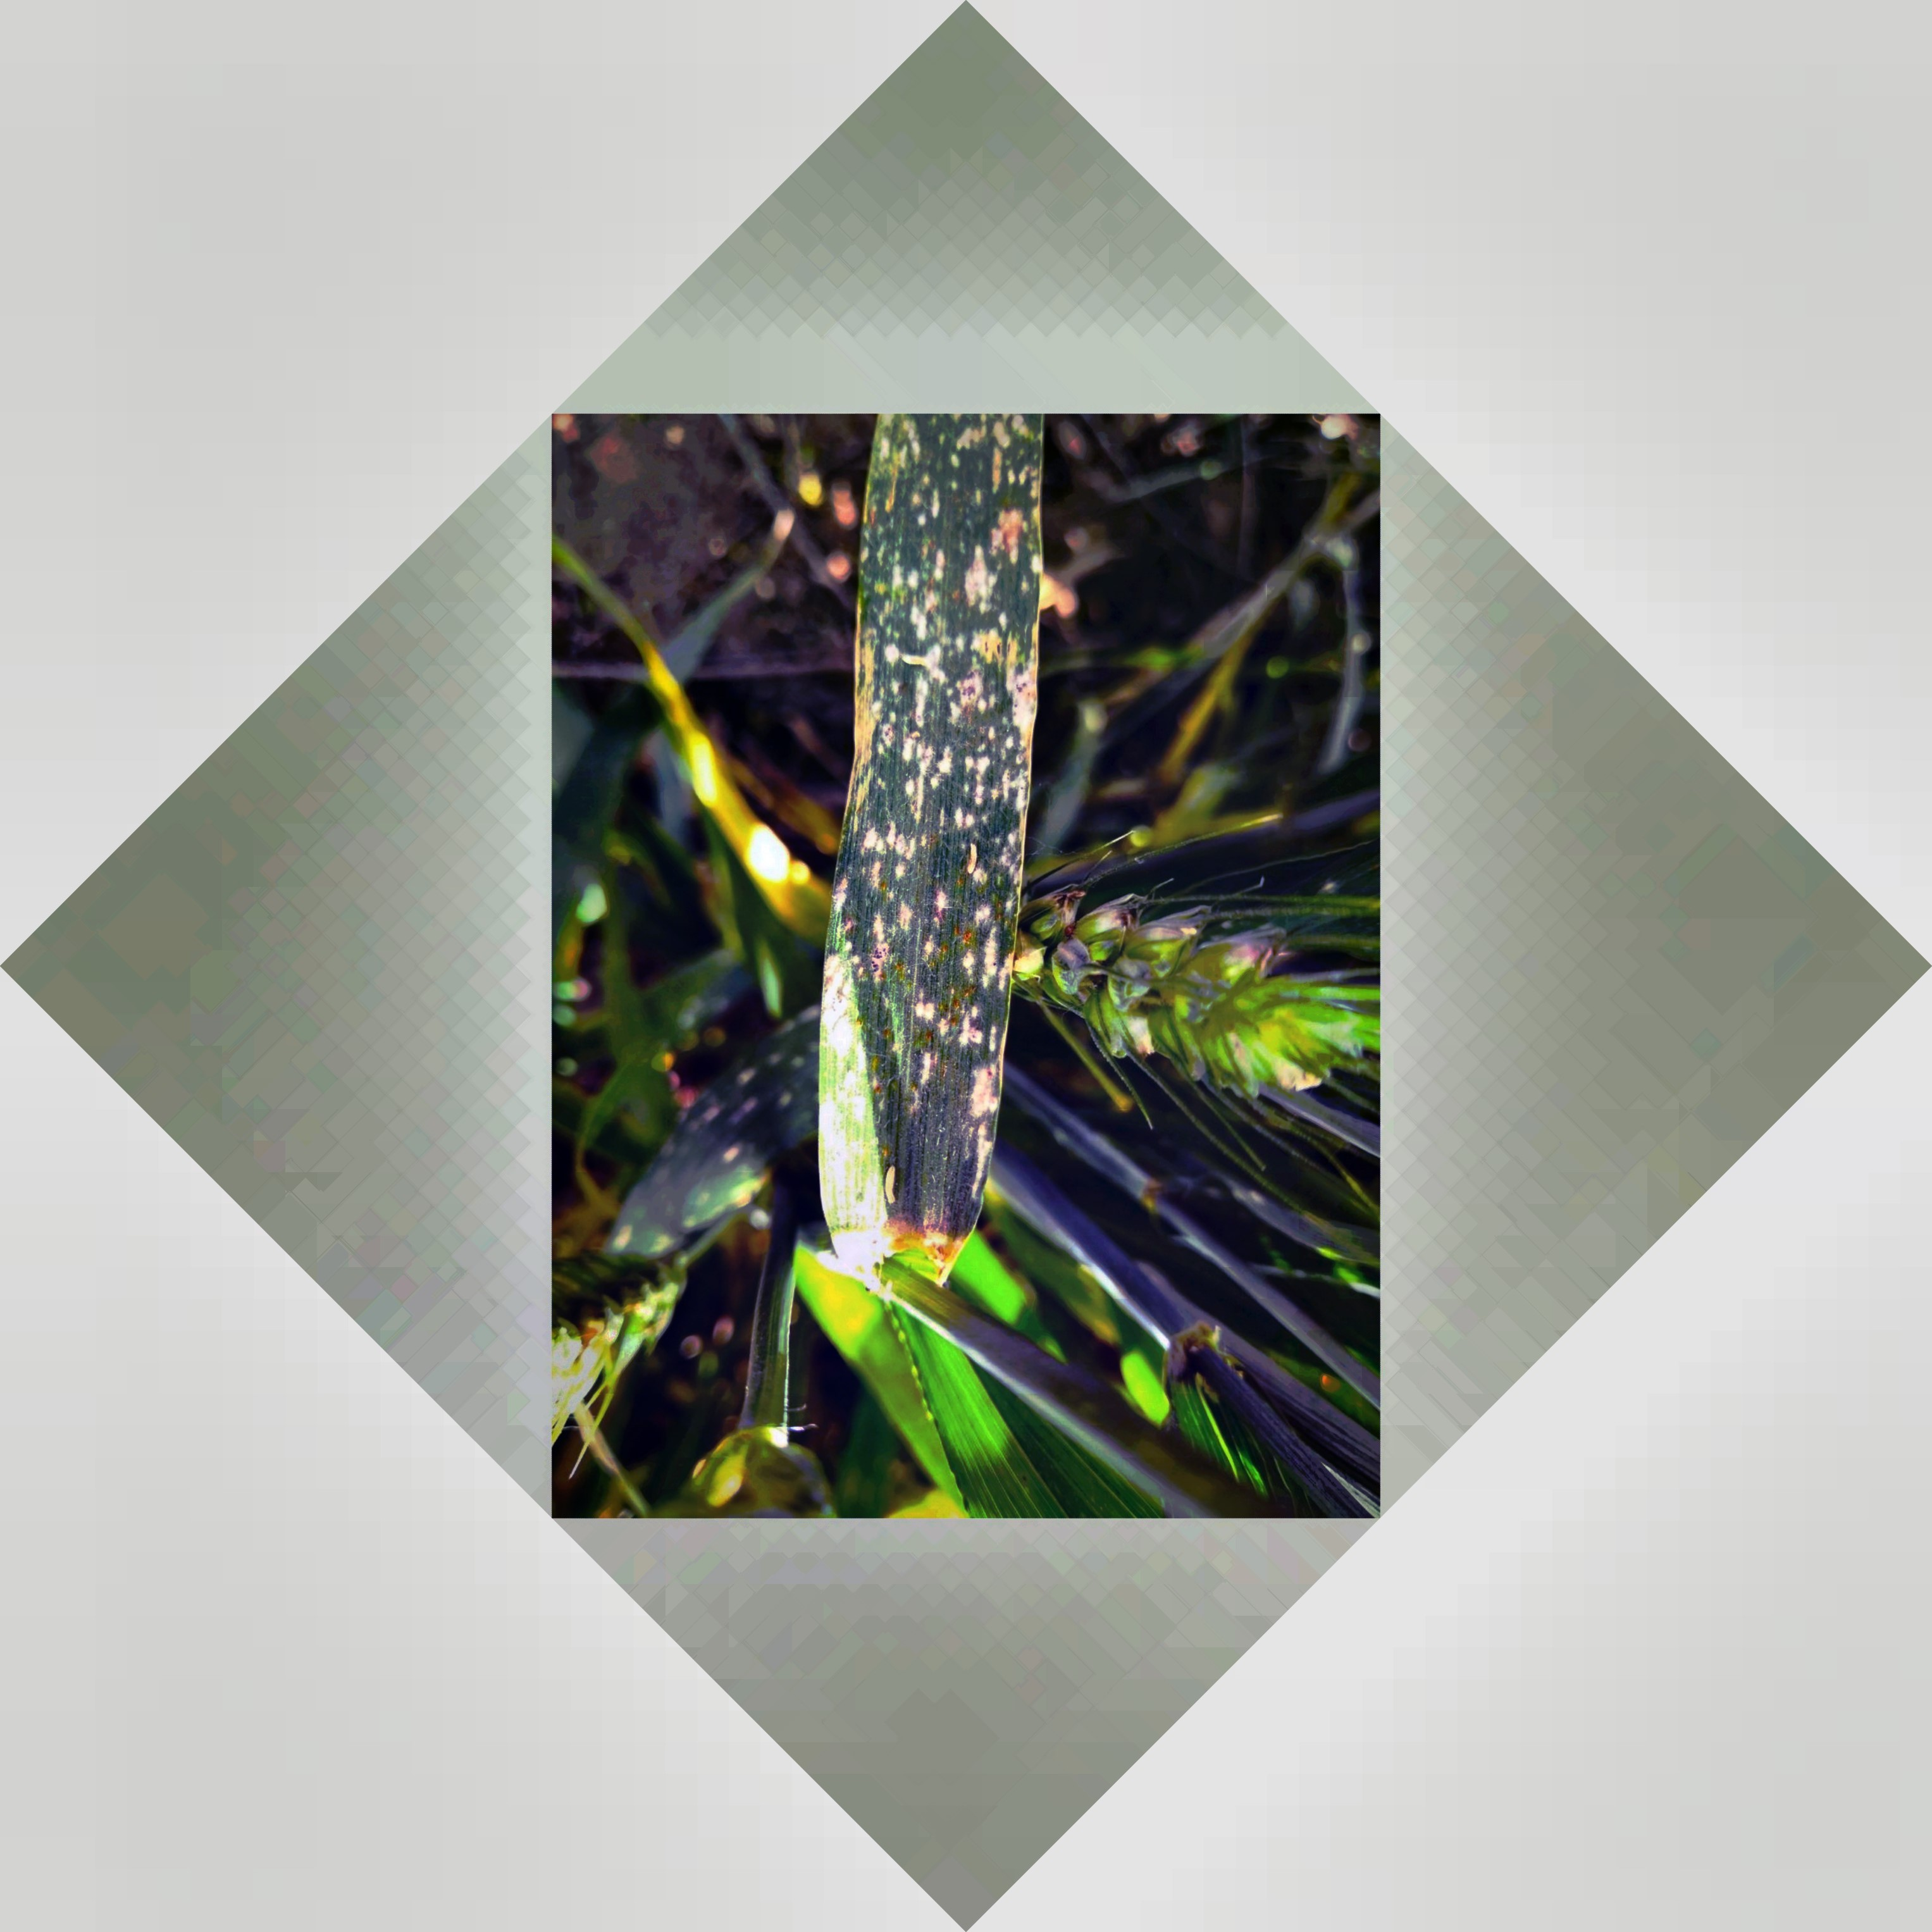Powdery Mildew: (849, 441, 1047, 1017)
